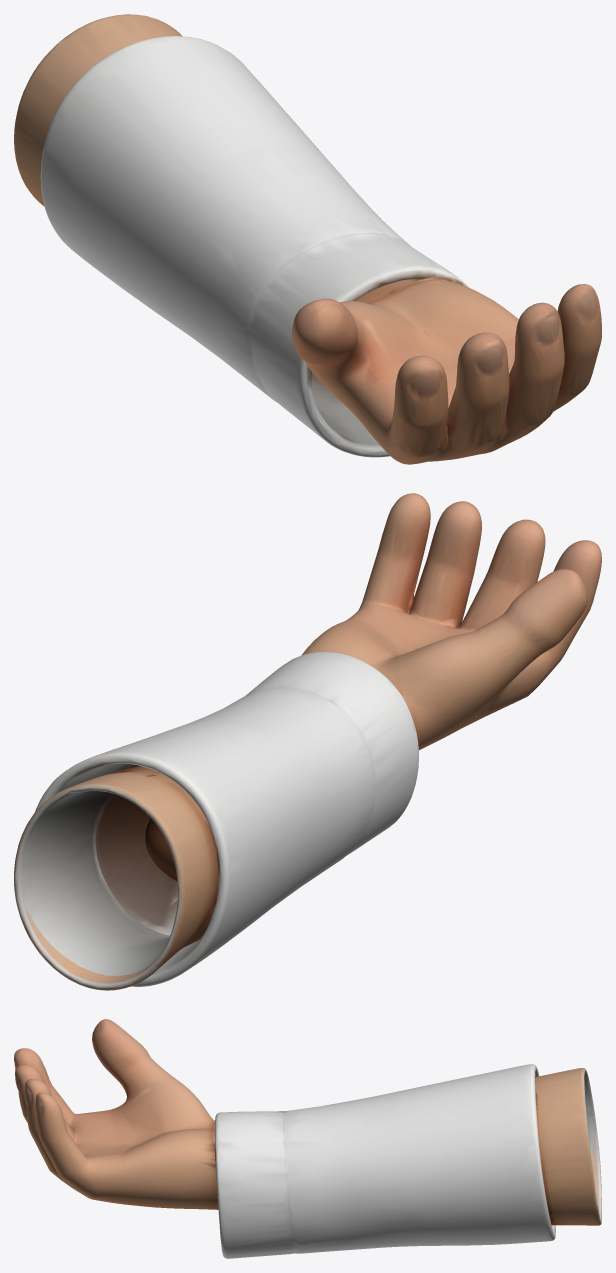
The model's file is hand-right.glb.
The picture shows the model from 3 angles, top to bottom: view 1: azimuth 30°, elevation 25°; view 2: azimuth 150°, elevation 25°; view 3: azimuth 270°, elevation 25°; orthographic projection. The views are drawn at different scales.
Visible parts, largest first — view 1: node_0; view 2: node_0; view 3: node_0.
Boxes of the visible parts, x1=… form: node_0: x1=14, y1=14, x2=601, y2=464; node_0: x1=14, y1=493, x2=601, y2=990; node_0: x1=14, y1=1019, x2=601, y2=1258.
Size of the model in its own units: 0.4269 by 0.3767 by 1.14.
1 material, 1 textured.
